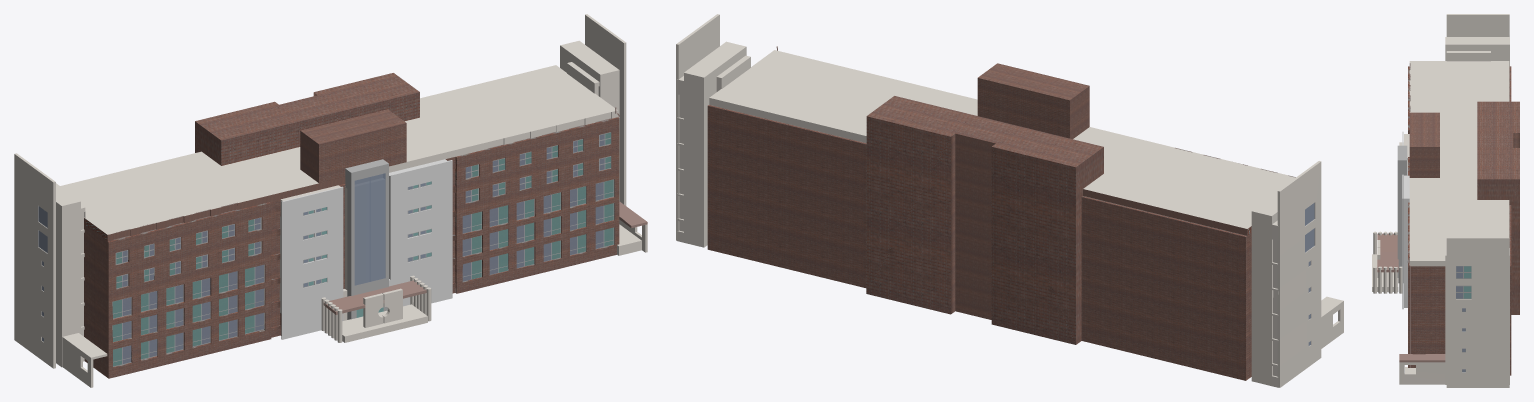
Rendered from rothem.fbx.
3 views of the same model, side by side, from view 1: azimuth 30°, elevation 25°; view 2: azimuth 150°, elevation 25°; view 3: azimuth 270°, elevation 25° (orthographic). The views are drawn at different scales.
Parts seen in each view (by area): view 1: polySurface316; view 2: polySurface316; view 3: polySurface316.
Part boxes in pixels (left/top/right/bottom): polySurface316: left=14, top=14, right=647, bottom=387; polySurface316: left=676, top=14, right=1343, bottom=387; polySurface316: left=1372, top=14, right=1519, bottom=387.
Size of the model in its own units: 62.08 by 19.3 by 17.29.
